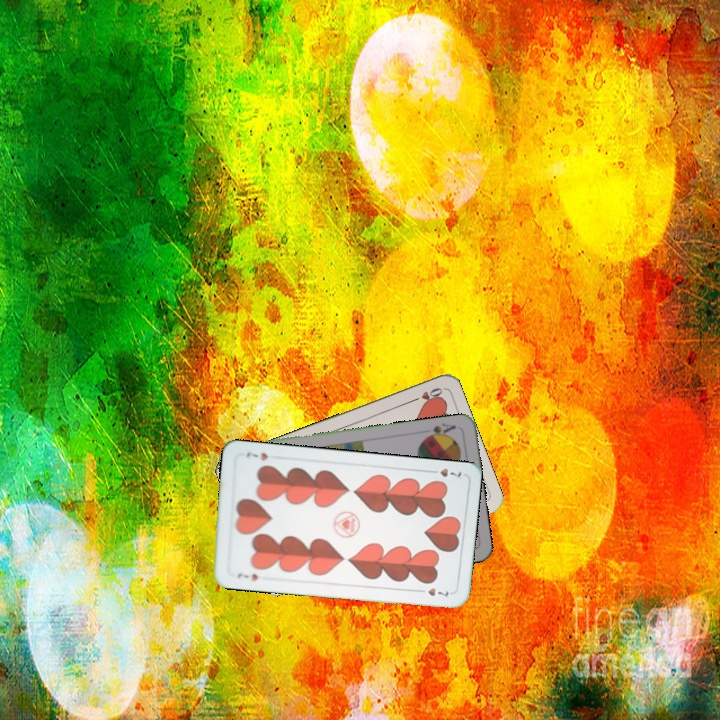H7: (425, 464, 464, 480), (233, 569, 260, 584)
HO: (406, 383, 445, 405)
SA: (421, 419, 458, 442)
